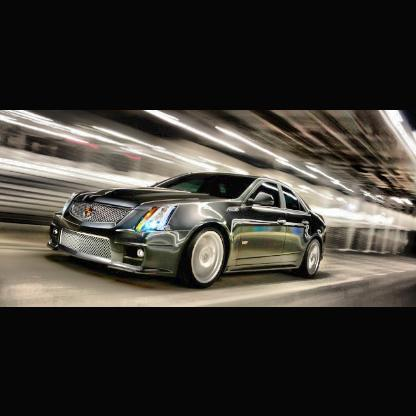Cadillac CTS-V Sedan 2012: (45, 174, 327, 289)
